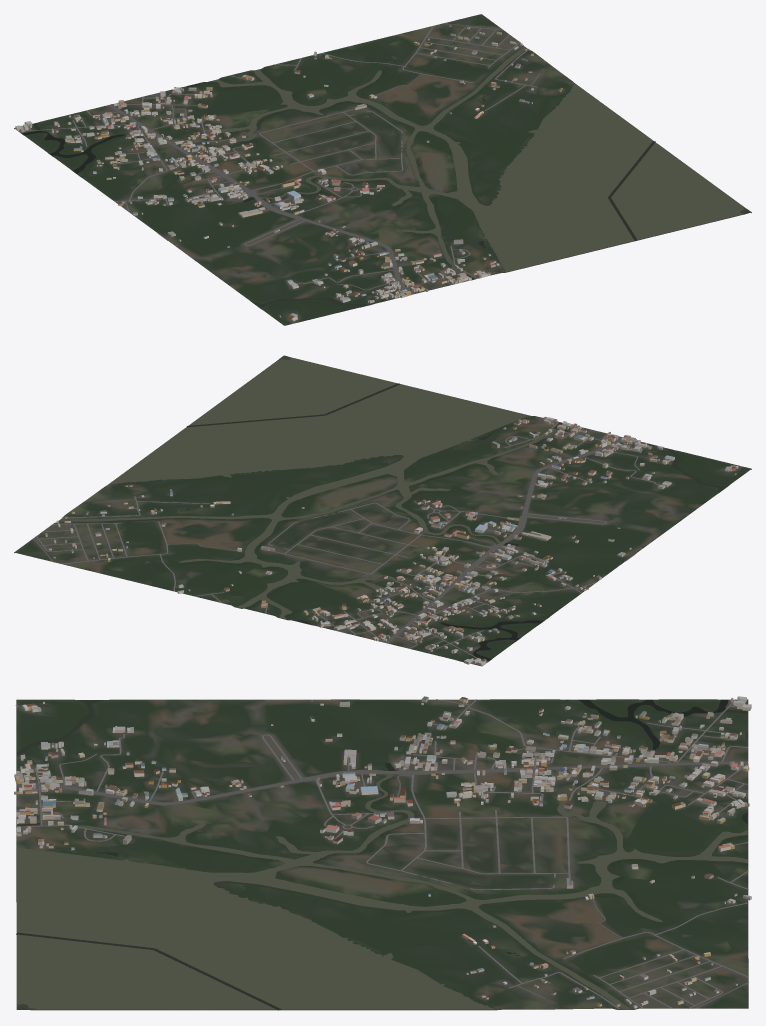
The picture shows the model from 3 angles, top to bottom: view 1: azimuth 30°, elevation 25°; view 2: azimuth 150°, elevation 25°; view 3: azimuth 270°, elevation 25°; orthographic projection. The views are drawn at different scales.
Visible parts, largest first — view 1: ground, water, buildings, roads; view 2: ground, water, buildings, roads; view 3: ground, water, buildings, roads.
Part boxes in pixels (left/top/right/bottom): ground: left=14, top=14, right=751, bottom=325; water: left=22, top=46, right=743, bottom=308; buildings: left=15, top=24, right=562, bottom=321; roads: left=18, top=23, right=539, bottom=323; ground: left=14, top=355, right=751, bottom=666; water: left=58, top=357, right=727, bottom=661; buildings: left=45, top=416, right=738, bottom=665; roads: left=33, top=421, right=743, bottom=663; ground: left=16, top=699, right=748, bottom=1010; water: left=16, top=699, right=747, bottom=1010; buildings: left=14, top=696, right=751, bottom=1008; roads: left=15, top=699, right=748, bottom=1008.
Bounding box in the file's own units: 1407 × 16.94 × 1412.
